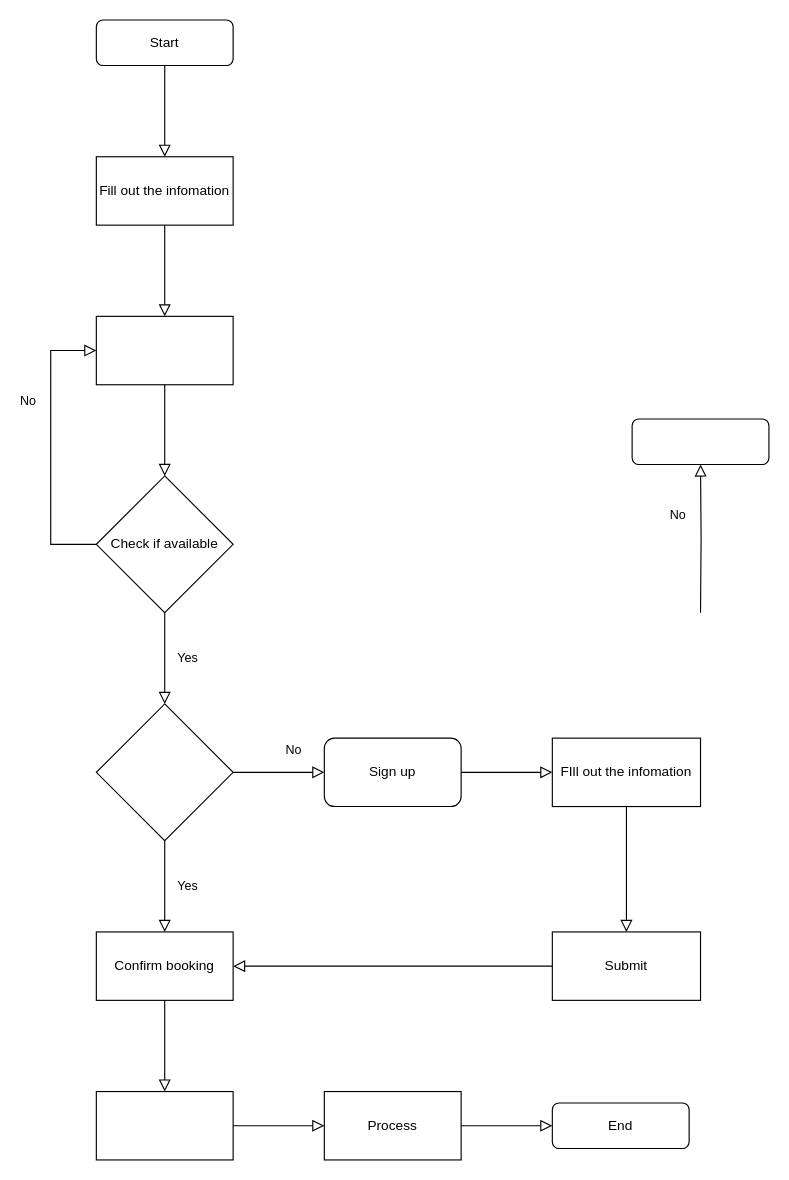
This 789x1180 diagram has some shape labels left out. Each missing label, with the box of its shape:
Have a account: (95, 703, 233, 841)
Repair Lamp: (631, 418, 769, 465)
Search: (95, 315, 233, 385)
Store infomation: (95, 1090, 233, 1160)
